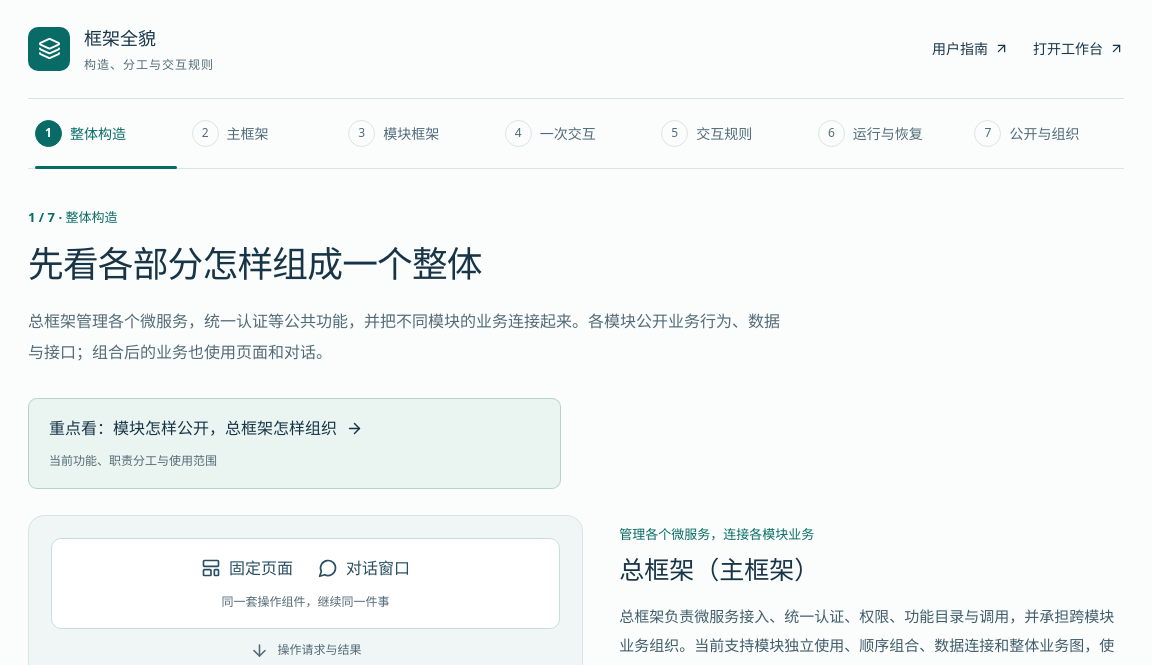
it: framework structure explanation › opens the core analysis directly from the overall structure
Click the button "重点看：模块怎样公开，总框架怎样组织 当前功能、职责分工与使用范围". click: coordinates (193, 428)
box: [28,398,561,489]
(page scrolled)
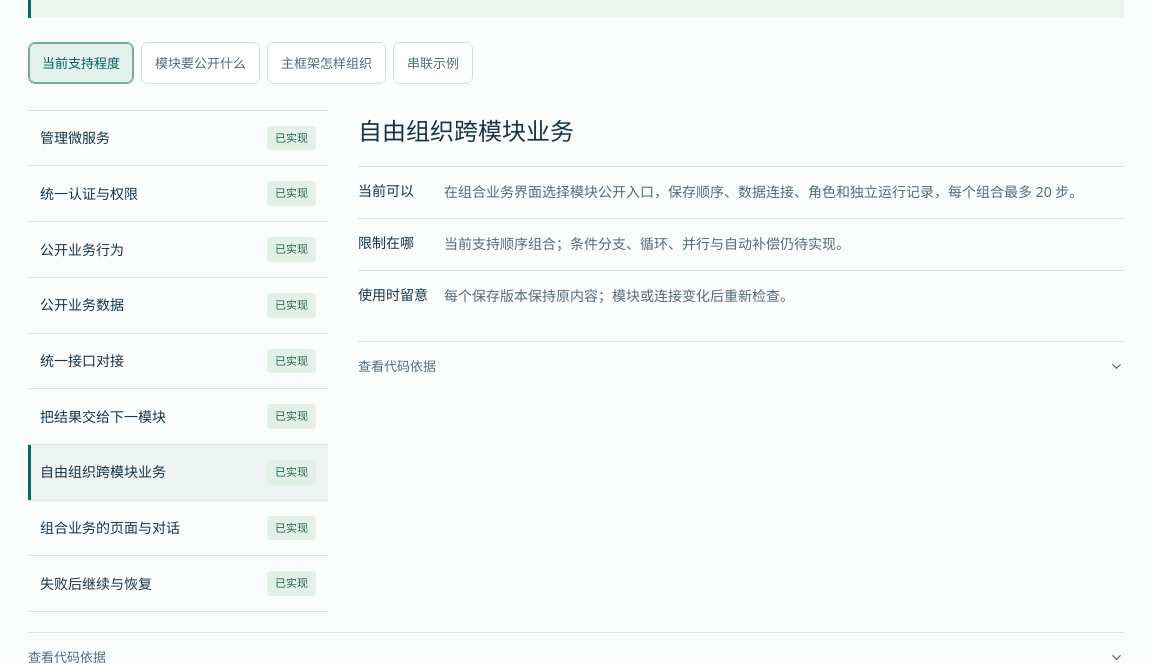
Expected: the element named "当前支持说明" shows "每个组合最多 20 步", [444,182,1083,201]
